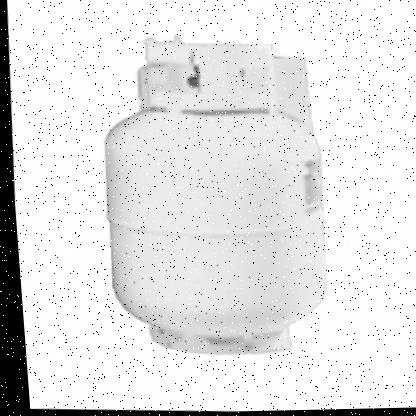gas-tank: (62, 20, 357, 387)
